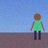person: (31, 13, 44, 39)
